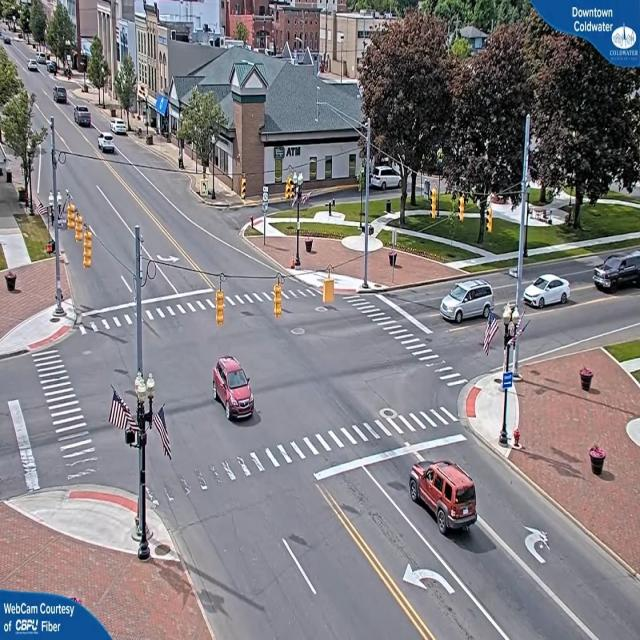car: (408, 461, 479, 535), (211, 357, 256, 422), (440, 278, 496, 326), (592, 252, 640, 294), (524, 272, 571, 308), (75, 106, 94, 129), (98, 132, 116, 153), (54, 86, 69, 106), (113, 119, 128, 137), (28, 61, 39, 72)
